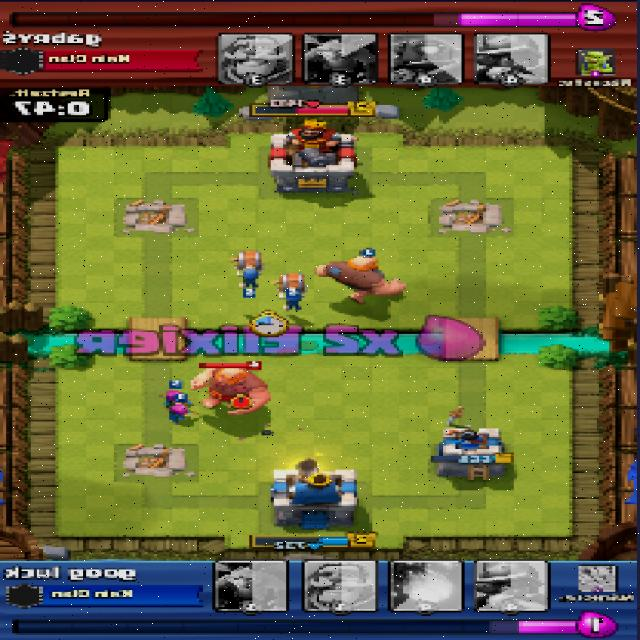Enemy-Giant: (191, 362, 272, 416)
Player-Archer: (165, 404, 196, 424), (161, 388, 187, 411)
Player-Giant: (314, 257, 403, 301)
Player-Wallbreaker: (229, 251, 264, 290), (274, 275, 306, 309)
